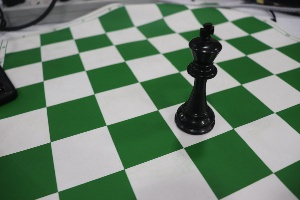black_king: (169, 5, 220, 139)
